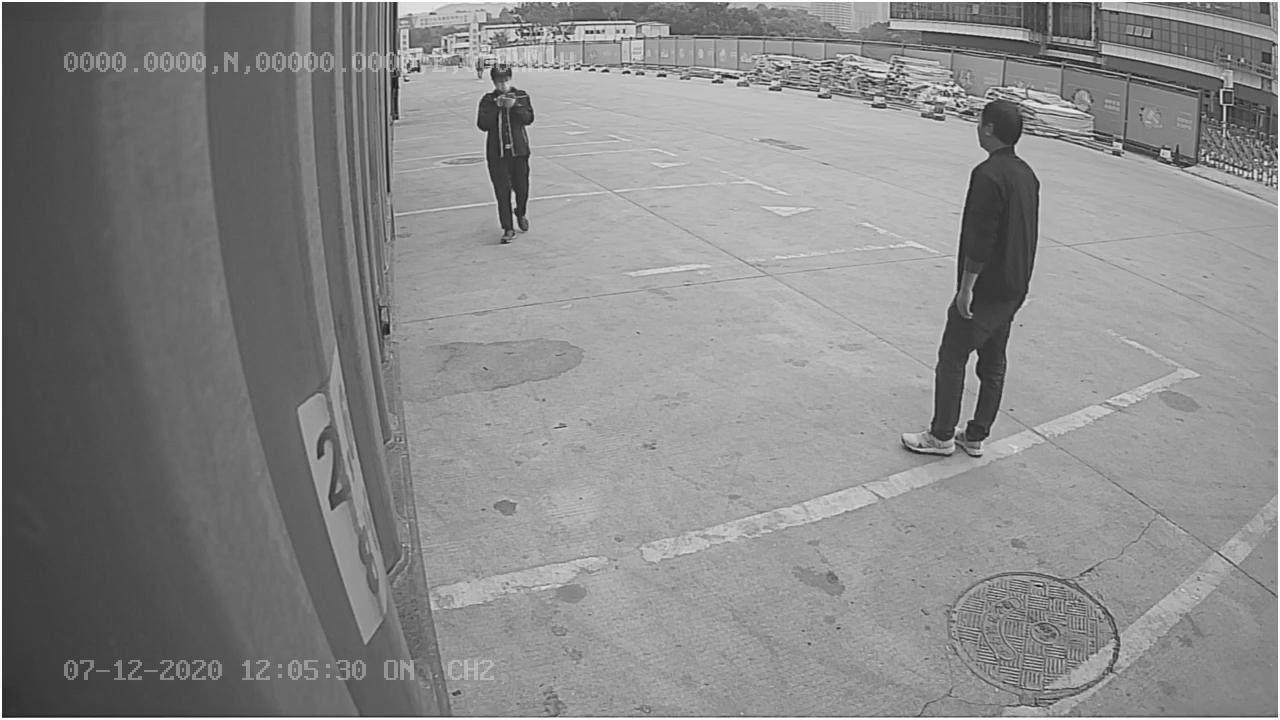person: (900, 95, 1044, 467)
